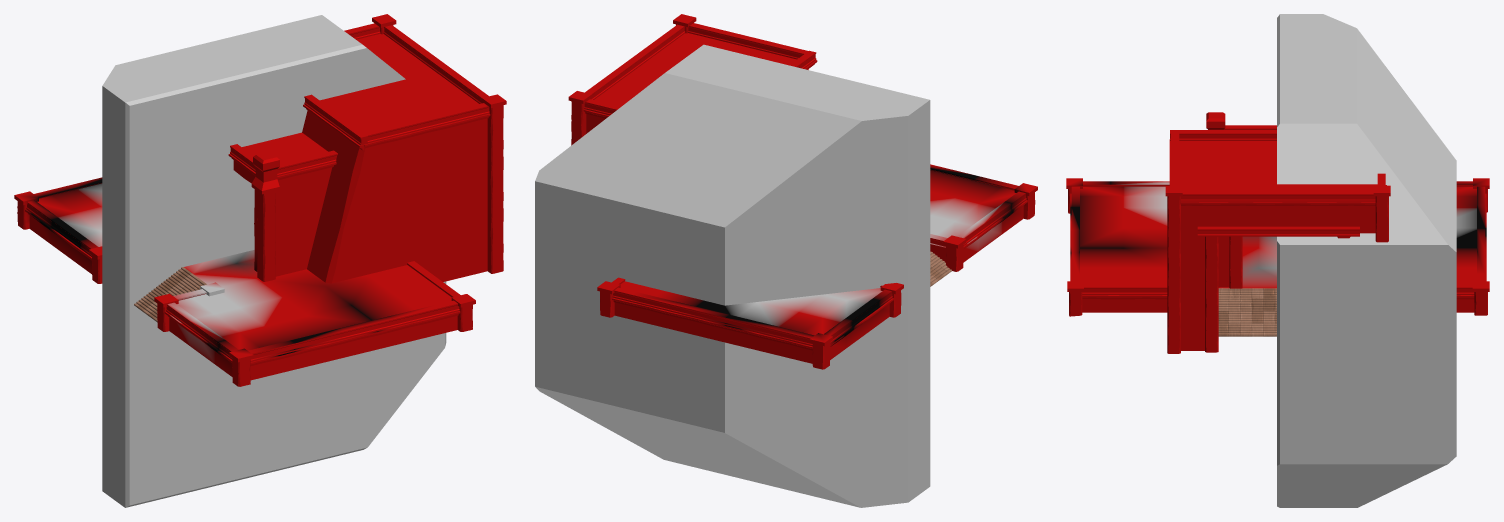
3 renders of one model, left to right at view 1: azimuth 30°, elevation 25°; view 2: azimuth 150°, elevation 25°; view 3: azimuth 270°, elevation 25°, orthographic. The views are drawn at different scales.
Parts seen in each view (by area): view 1: SM_entry_pyramid_01_ConvexHulls, SM_entry_pyramid_01; view 2: SM_entry_pyramid_01_ConvexHulls, SM_entry_pyramid_01; view 3: SM_entry_pyramid_01_ConvexHulls, SM_entry_pyramid_01.
Part boxes in pixels (x1,y1,x2,y2): SM_entry_pyramid_01_ConvexHulls: (102, 15, 446, 507); SM_entry_pyramid_01: (14, 14, 506, 386); SM_entry_pyramid_01_ConvexHulls: (535, 44, 930, 507); SM_entry_pyramid_01: (568, 14, 1037, 369); SM_entry_pyramid_01_ConvexHulls: (1277, 14, 1456, 507); SM_entry_pyramid_01: (1066, 112, 1489, 353).
Bounding box in the file's own units: 2594 × 3131 × 3131.
